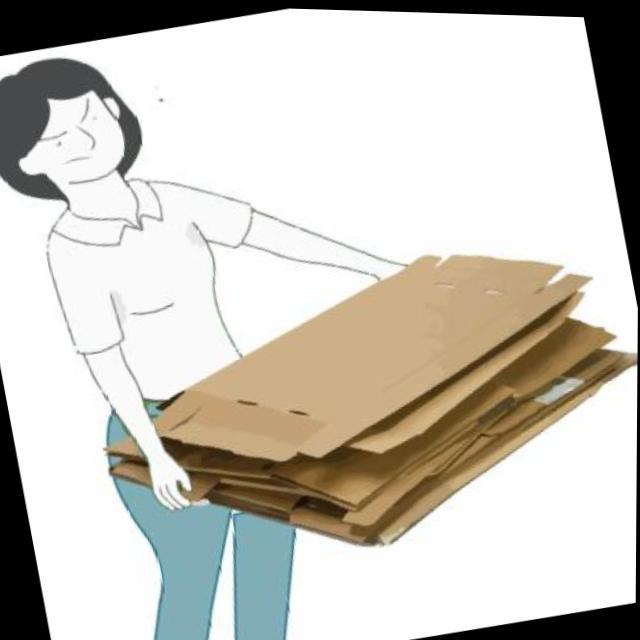box: (56, 196, 639, 605)
